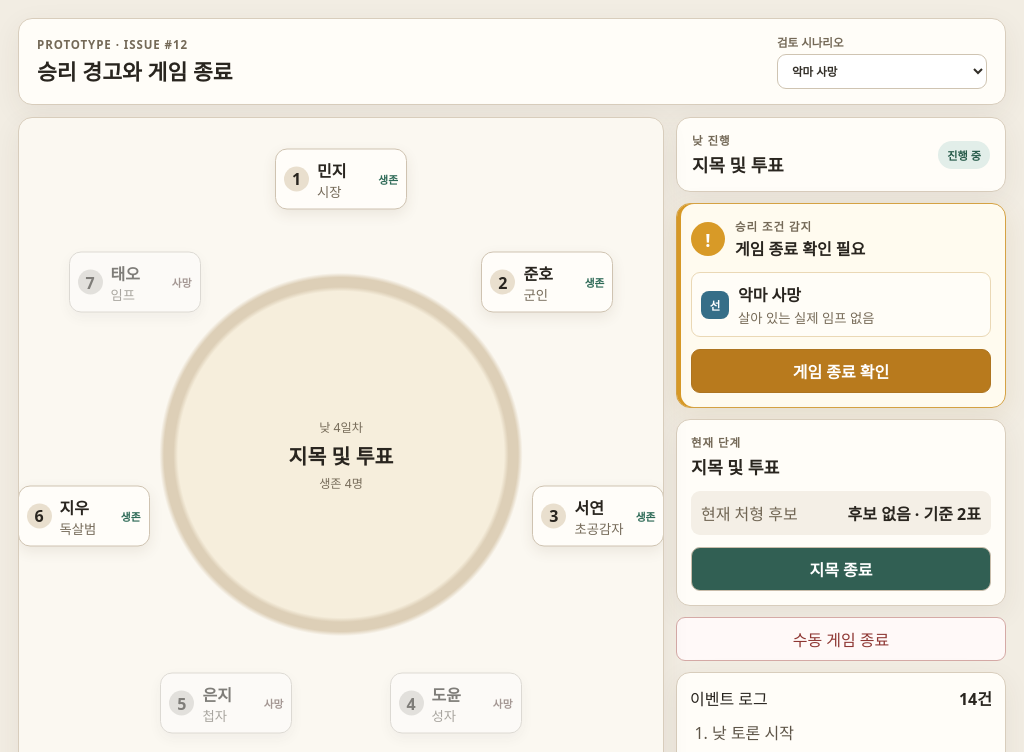
Test: issue 12 win-game prototype › locks a single-condition end to its rules-owned winning team
Click the button "게임 종료 확인".
click(841, 371)  # box [691,349,991,393]
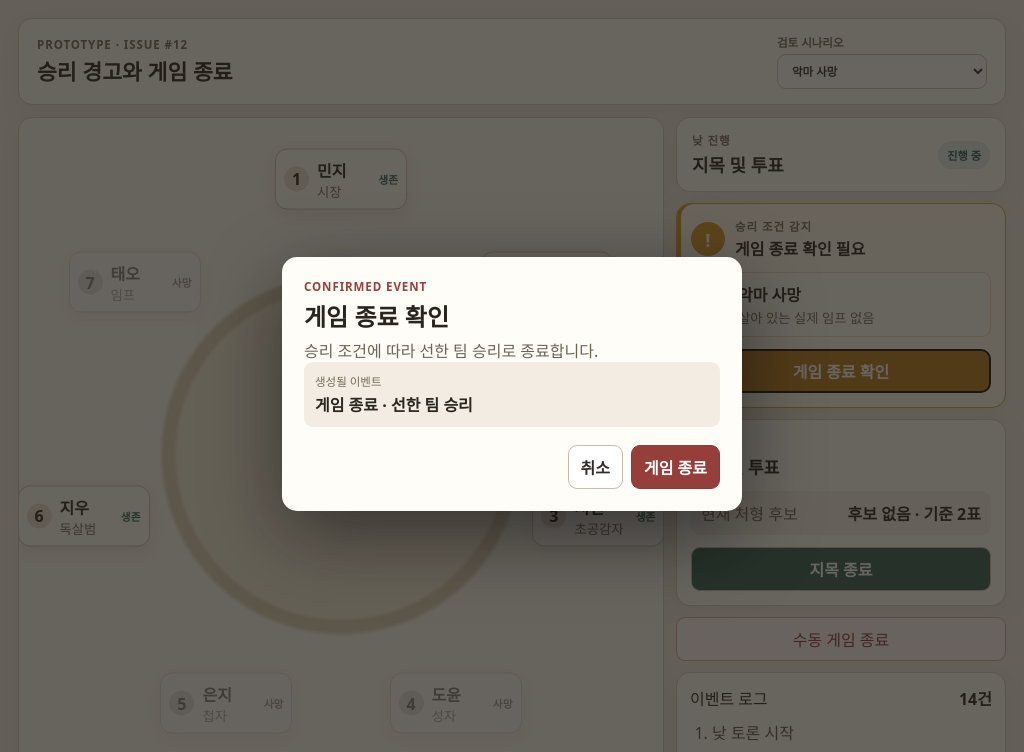
Now the dialog "게임 종료 확인" shows "선한 팀 승리로 종료합니다", box [304,340,598,362]
Now the button "게임 종료" is enabled, box [631,445,720,489]
